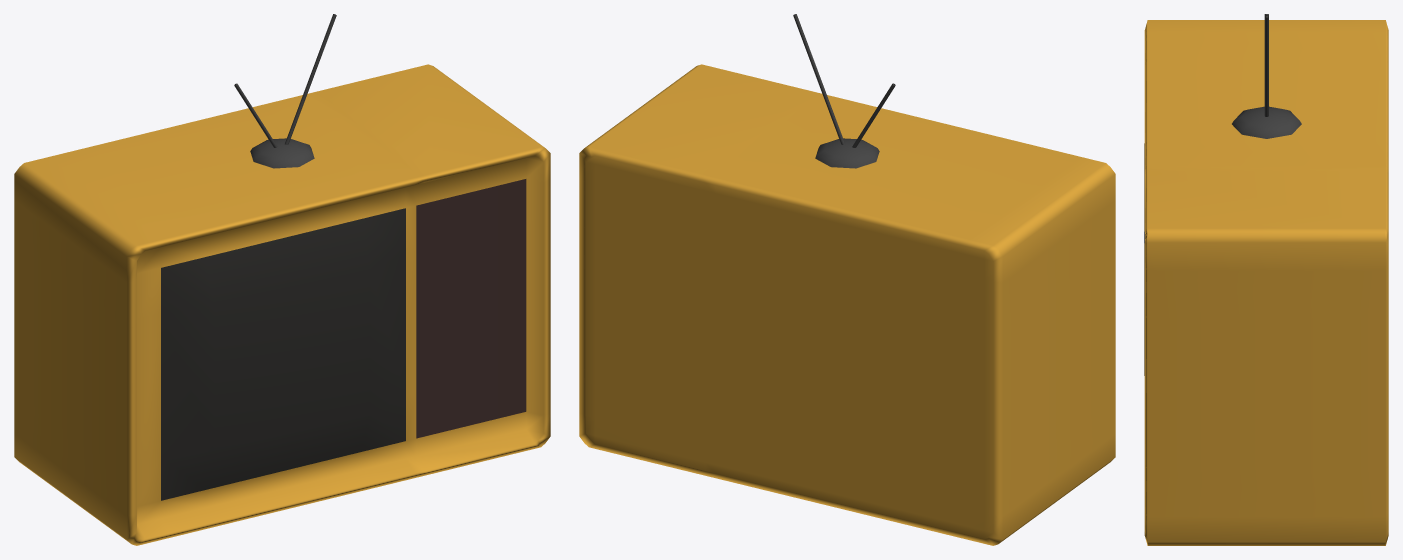
The picture shows the model from 3 angles, left to right: view 1: azimuth 30°, elevation 25°; view 2: azimuth 150°, elevation 25°; view 3: azimuth 270°, elevation 25°; orthographic projection. The views are drawn at different scales.
Visible parts, largest first — view 1: television_geo; view 2: television_geo; view 3: television_geo.
Boxes of the visible parts, x1,y1,x2,y2 form: television_geo: (14, 14, 550, 545); television_geo: (579, 14, 1115, 545); television_geo: (1144, 14, 1388, 545).
Size of the model in its own units: 1.31 by 1.27 by 0.6194.
Materials: 1 (1 with a texture image).
